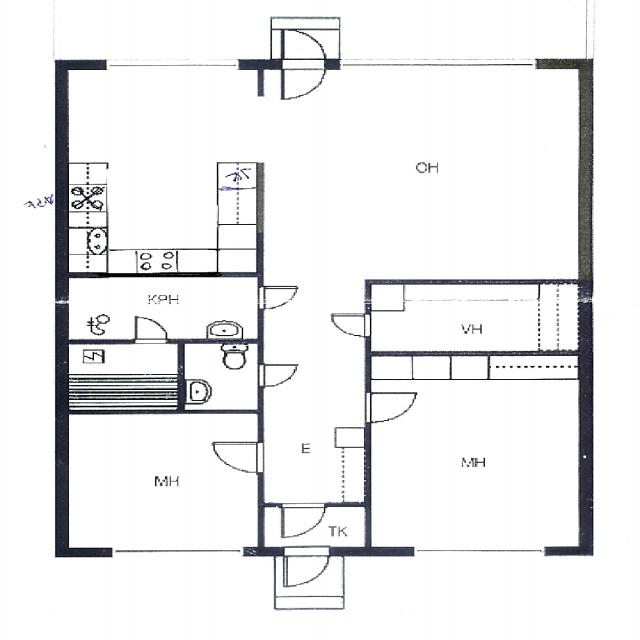door: (282, 30, 325, 70), (282, 60, 325, 100), (286, 548, 330, 587), (364, 389, 416, 422), (212, 443, 264, 474), (282, 503, 322, 535), (258, 362, 298, 386), (329, 313, 370, 336), (258, 287, 295, 309), (137, 318, 167, 343)
